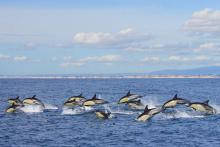fish: (163, 94, 193, 109), (21, 93, 47, 109), (118, 90, 145, 104), (83, 94, 110, 107), (4, 95, 24, 106)
